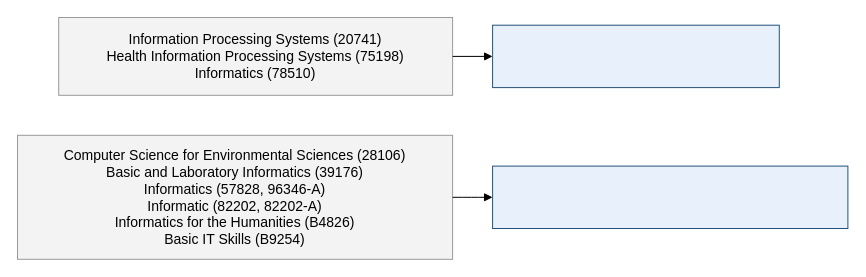
This 866x277 diagram has some shape labels left out. Here are the shapes that lost their labels. From the top down, the box of each, then its label:
(492, 24, 779, 88): Healthcare Information Systems 4 ECTS
(492, 165, 848, 228): Digital Administration and Public Services 5 ECTS
